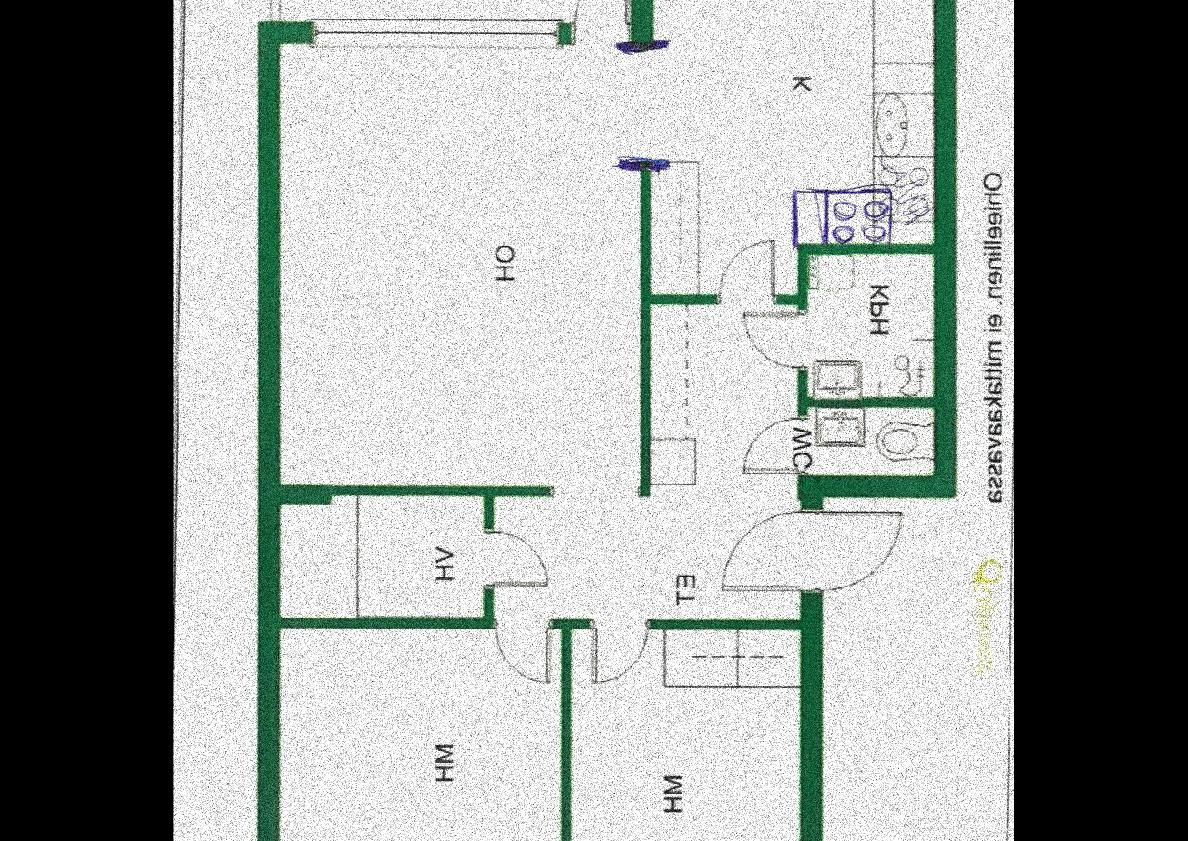door: (714, 502, 913, 592), (583, 612, 656, 690), (718, 225, 780, 300), (746, 308, 812, 368), (744, 413, 808, 474), (498, 614, 552, 686), (488, 528, 554, 586), (573, 0, 633, 33)
window: (312, 20, 554, 41)
zone: (280, 31, 630, 618), (653, 0, 935, 292), (279, 621, 561, 841), (630, 300, 796, 616), (573, 626, 802, 841), (808, 254, 936, 400), (797, 408, 934, 473)
